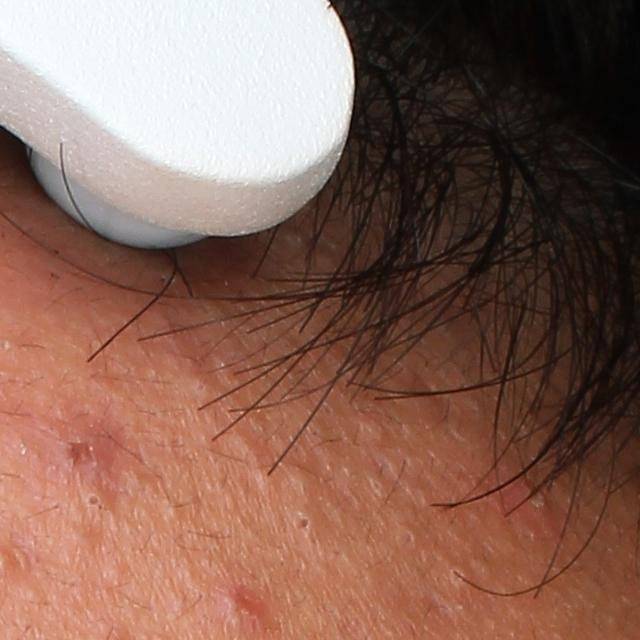comedo: (288, 469, 317, 498), (81, 487, 108, 513), (186, 374, 214, 399), (296, 510, 315, 540)
papule: (42, 413, 121, 481), (209, 575, 278, 640), (507, 476, 570, 535)
